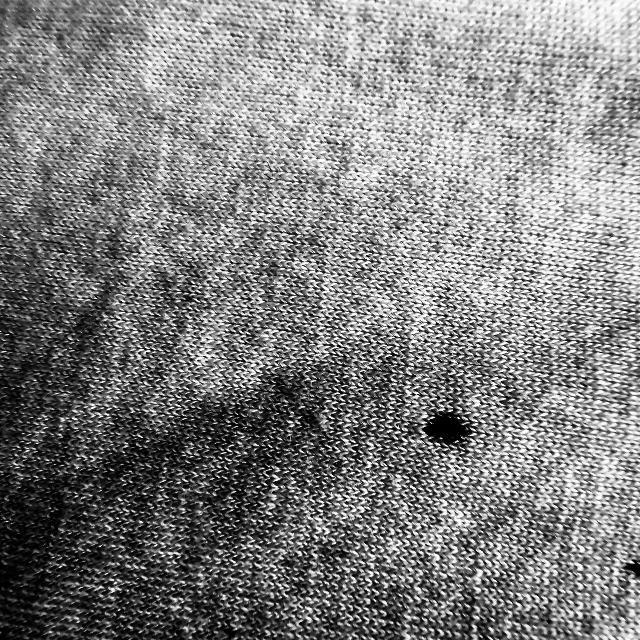Color_defect: (425, 410, 470, 443)
